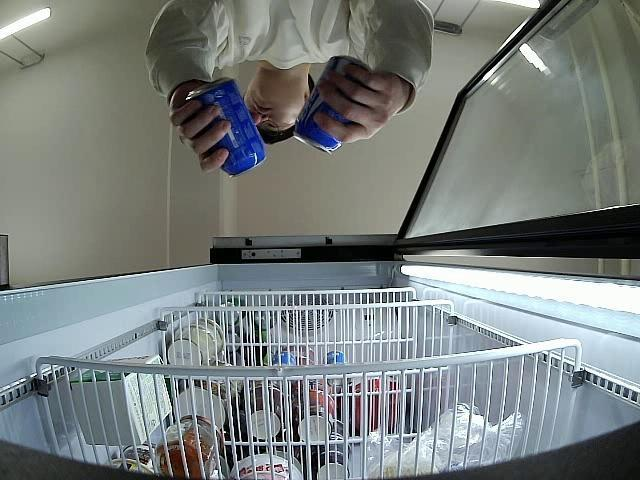13_pocariSweat: (185, 78, 268, 177), (294, 55, 372, 156)
